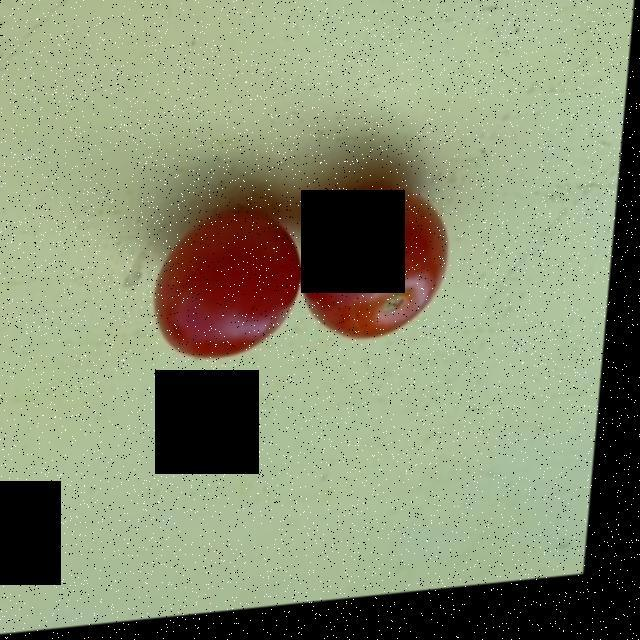tomato: (164, 195, 449, 363)
